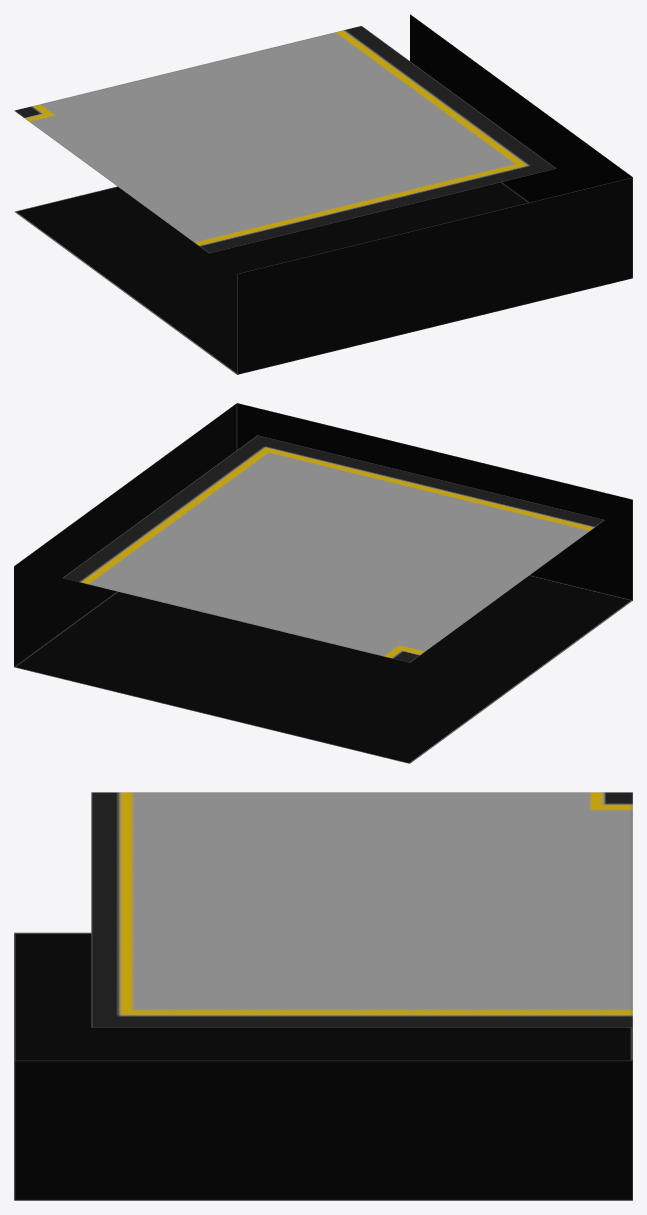
File: floor-corner-1.fbx
3 renders of one model, top to bottom at view 1: azimuth 30°, elevation 25°; view 2: azimuth 150°, elevation 25°; view 3: azimuth 270°, elevation 25°, orthographic. The views are drawn at different scales.
Visible parts, largest first — view 1: pCube46; view 2: pCube46; view 3: pCube46.
Part boxes in pixels (x1,y1,x2,y2): pCube46: [14, 14, 632, 374]; pCube46: [14, 403, 632, 763]; pCube46: [14, 792, 632, 1200].
Bounding box in the file's own units: 4.1 × 1 × 4.
Materials: 1 (1 with a texture image).
